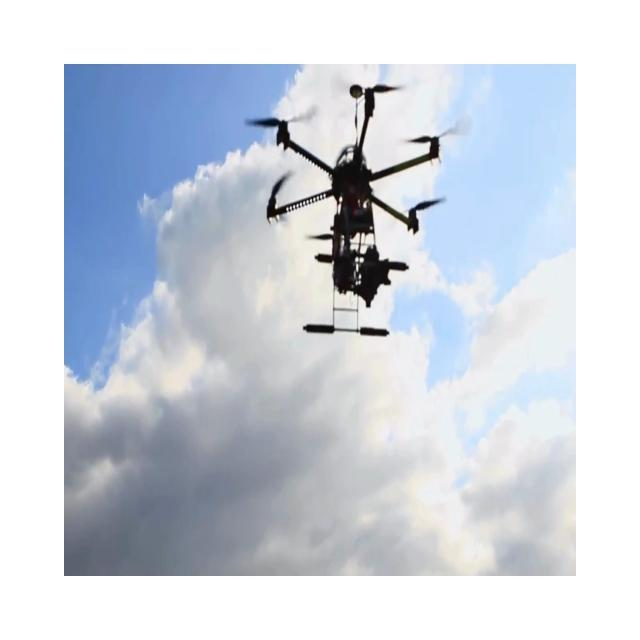drone: (244, 81, 466, 337)
